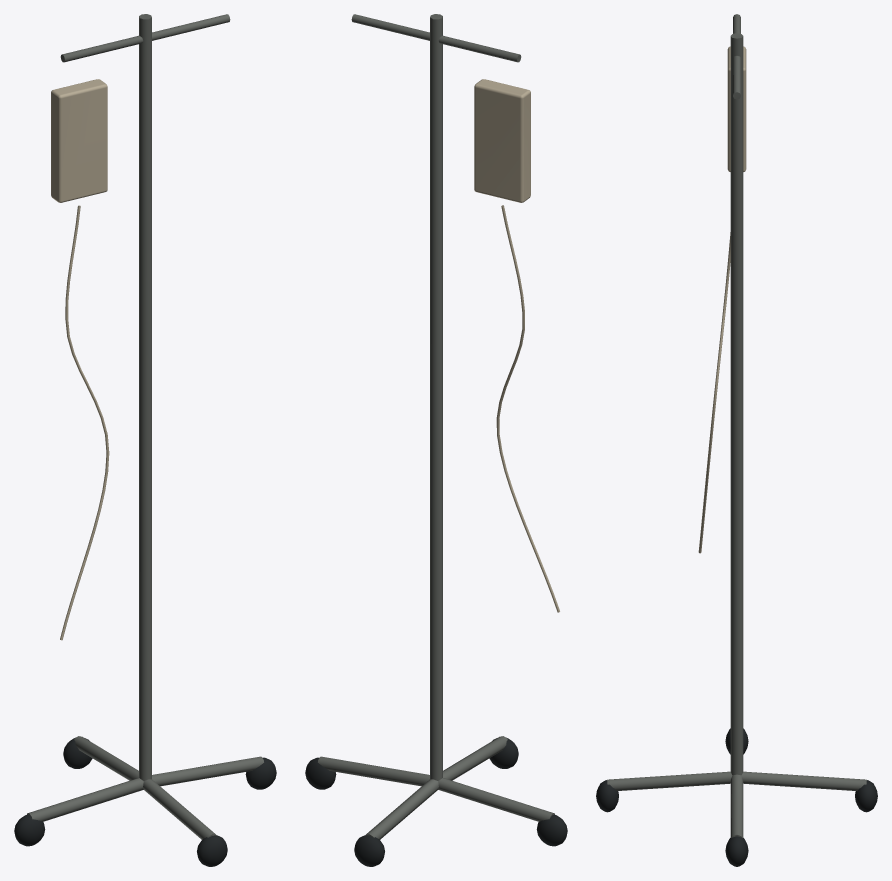
File: prop-iv-stand-v01.glb
3 views of the same model, side by side, from view 1: azimuth 30°, elevation 25°; view 2: azimuth 150°, elevation 25°; view 3: azimuth 270°, elevation 25° (orthographic). The views are drawn at different scales.
Parts seen in each view (by area): view 1: iv-stand; view 2: iv-stand; view 3: iv-stand.
Boxes of the visible parts, left/top/right/bottom form: iv-stand: left=14, top=14, right=276, bottom=866; iv-stand: left=305, top=14, right=567, bottom=866; iv-stand: left=596, top=14, right=877, bottom=866.
Bounding box in the file's own units: 0.63 × 1.85 × 0.61.
